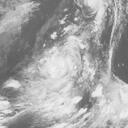cyclone: (40, 51, 83, 85)
